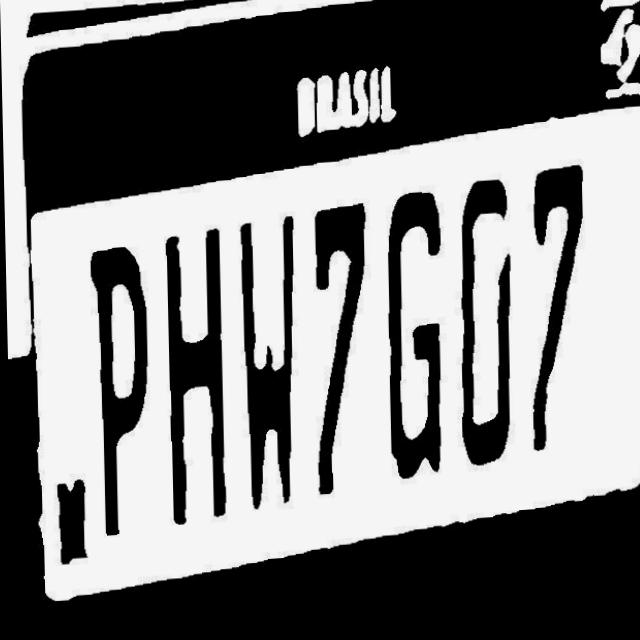0: (455, 183, 525, 481)
7: (513, 169, 592, 464), (303, 205, 376, 510)
g: (378, 192, 457, 492)
h: (158, 219, 227, 537)
p: (81, 240, 155, 548)
w: (231, 208, 304, 515)
